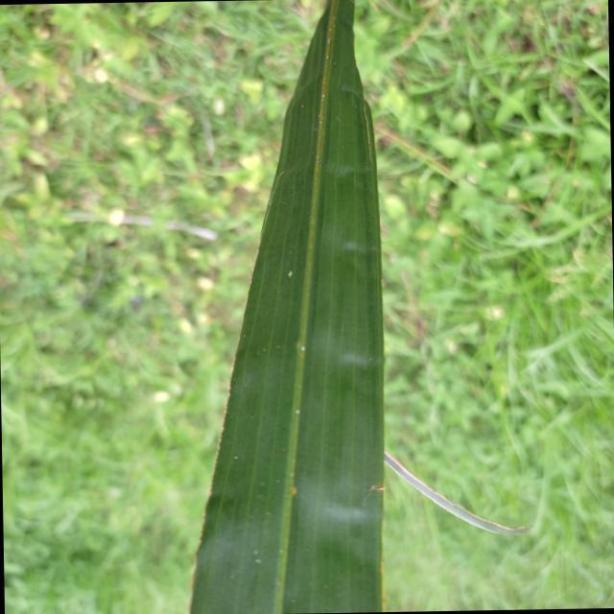Boron: (184, 0, 387, 614)
